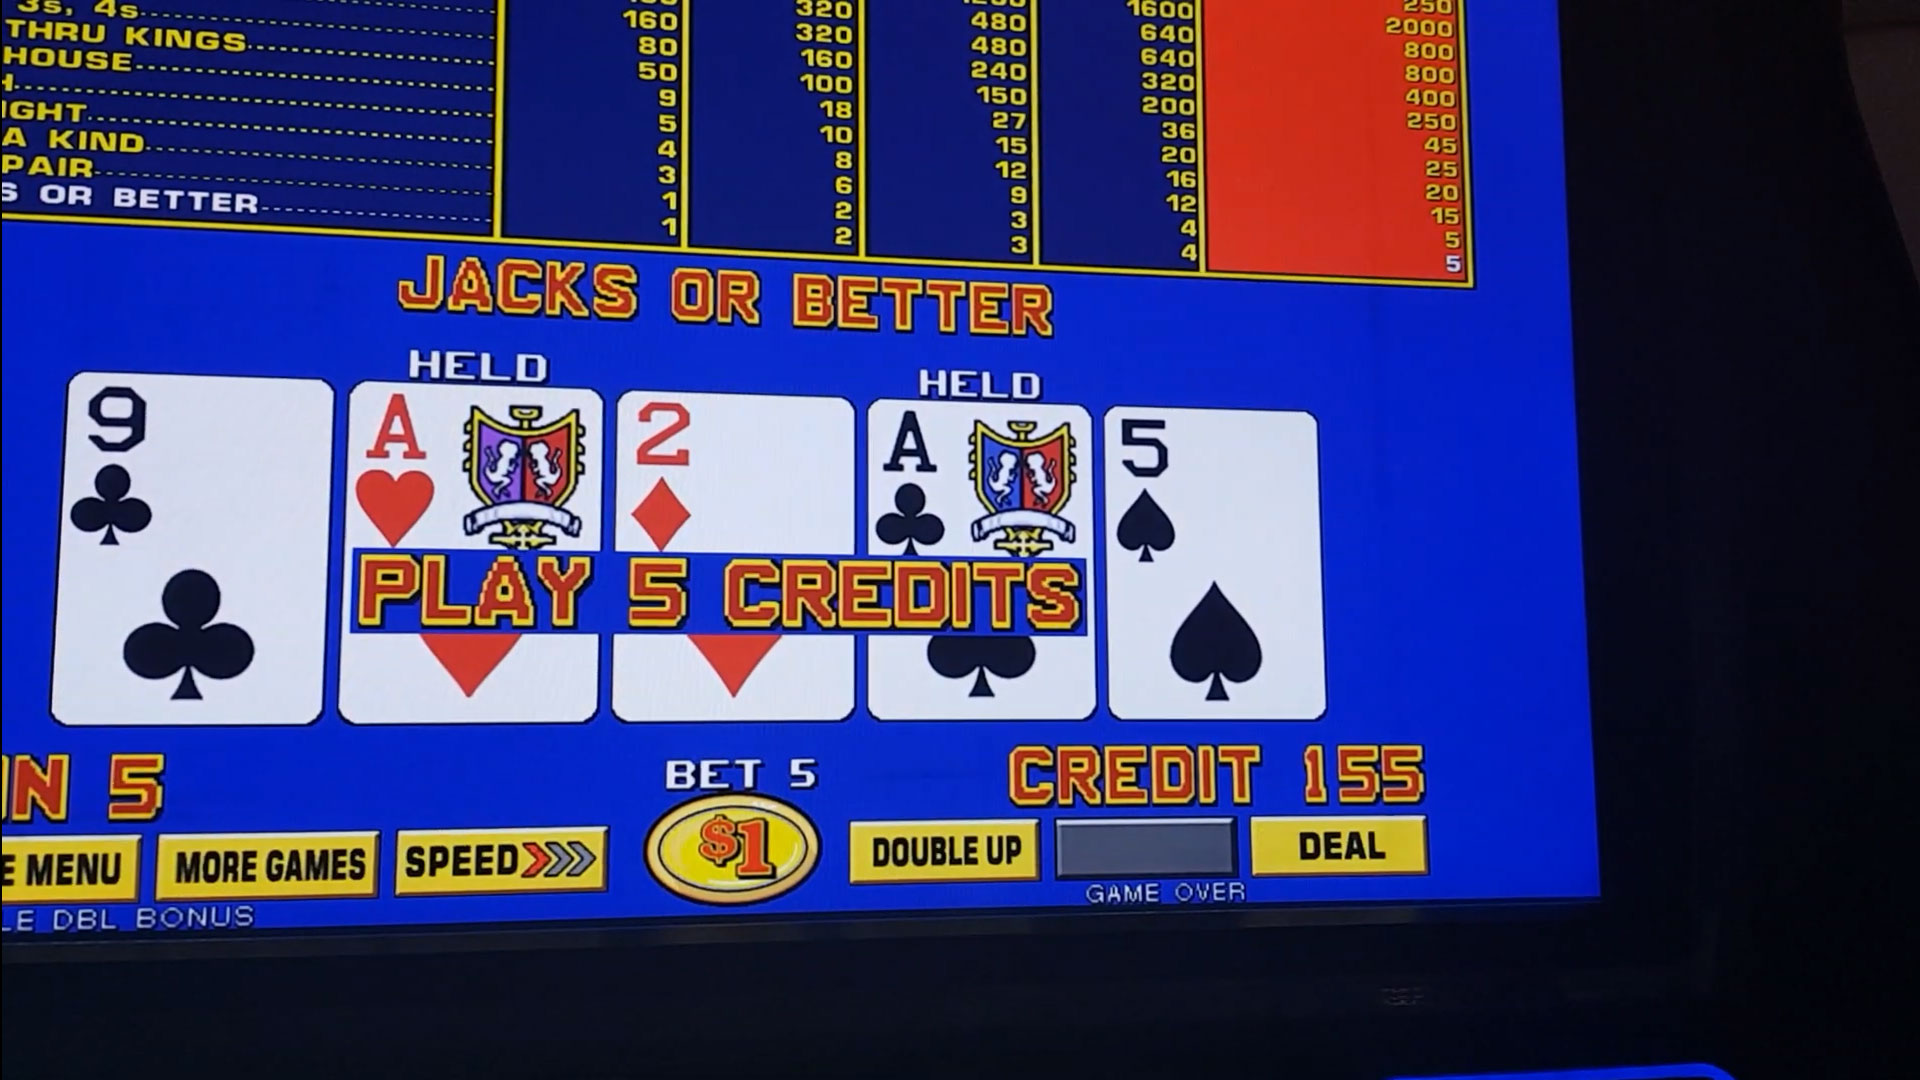C9: (73, 378, 327, 549)
CA: (873, 411, 1089, 551)
D2: (618, 402, 851, 550)
HA: (353, 392, 596, 543)
S5: (1110, 413, 1315, 574)
